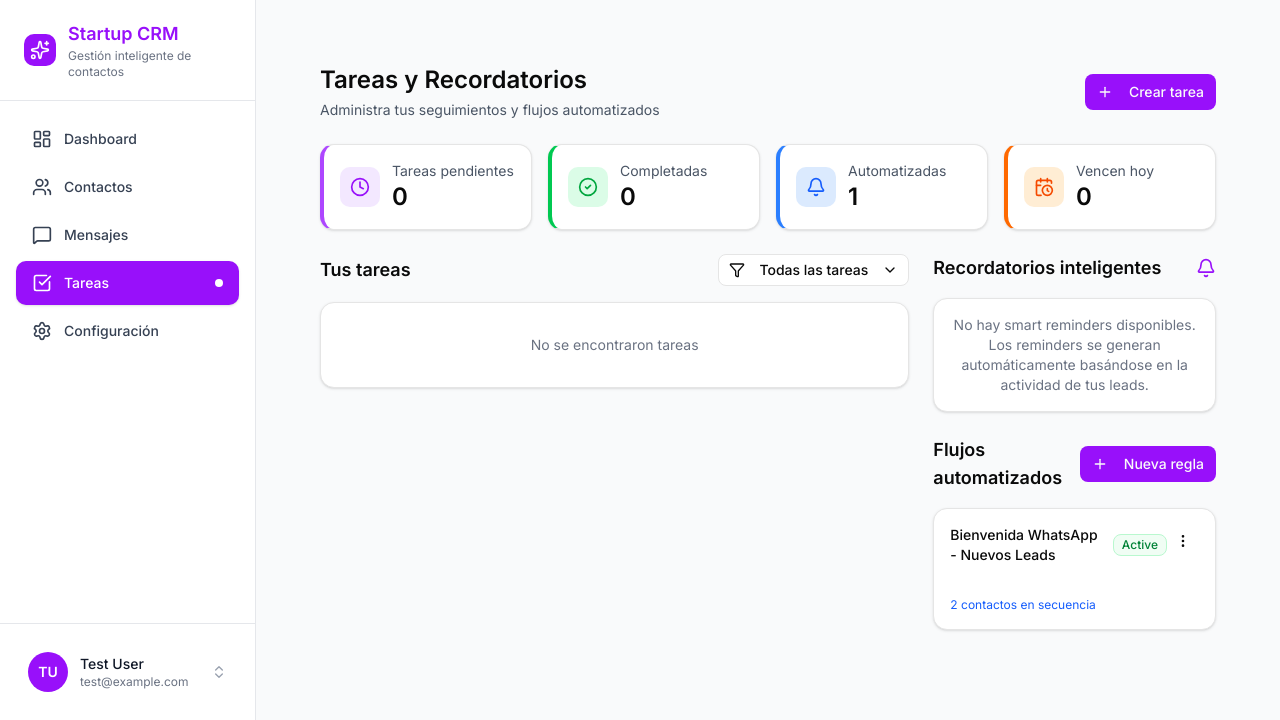
Flujo de Bienvenida WhatsApp › Gestión del flujo de bienvenida › debe permitir pausar el flujo de bienvenida
Check: the text with test id "workflow-card-1" reads "Active", box [1122,537,1158,552]
Click the button with test id "workflow-menu-1".
click(1183, 541)  # box [1167,525,1199,557]
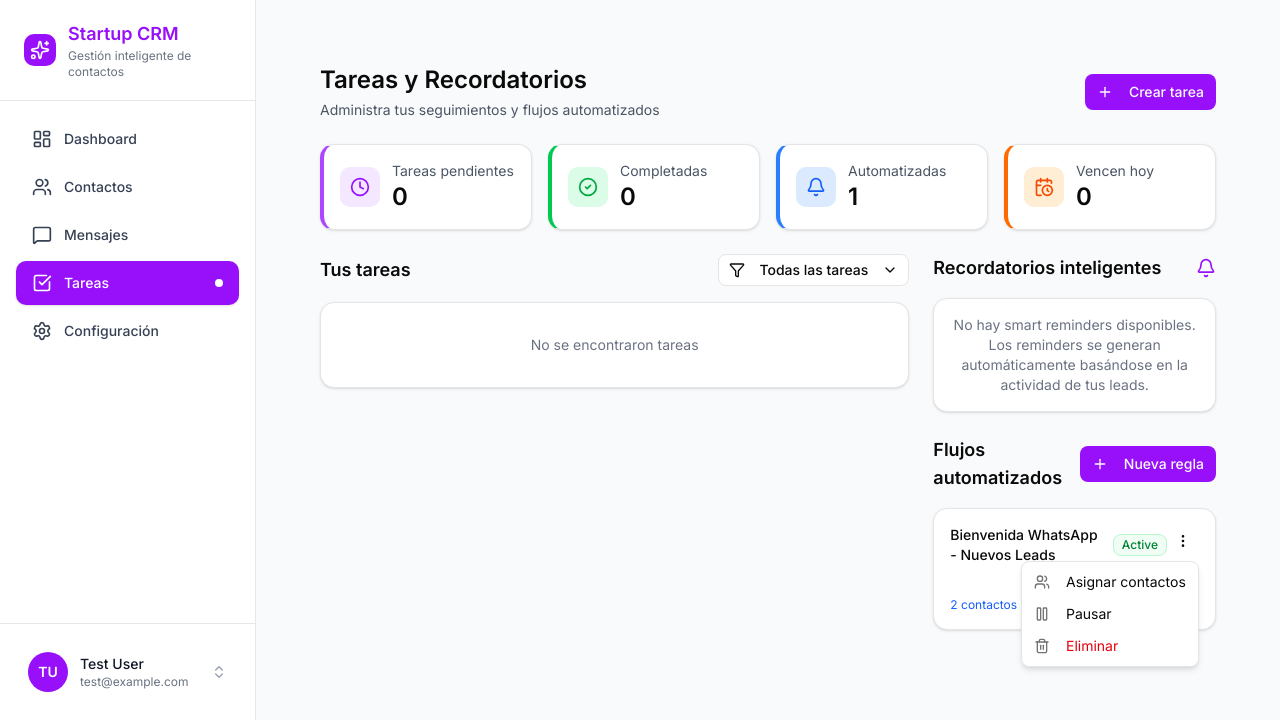
Click the menu item with test id "workflow-toggle-1".
click(1073, 614)  # box [1034,605,1112,622]
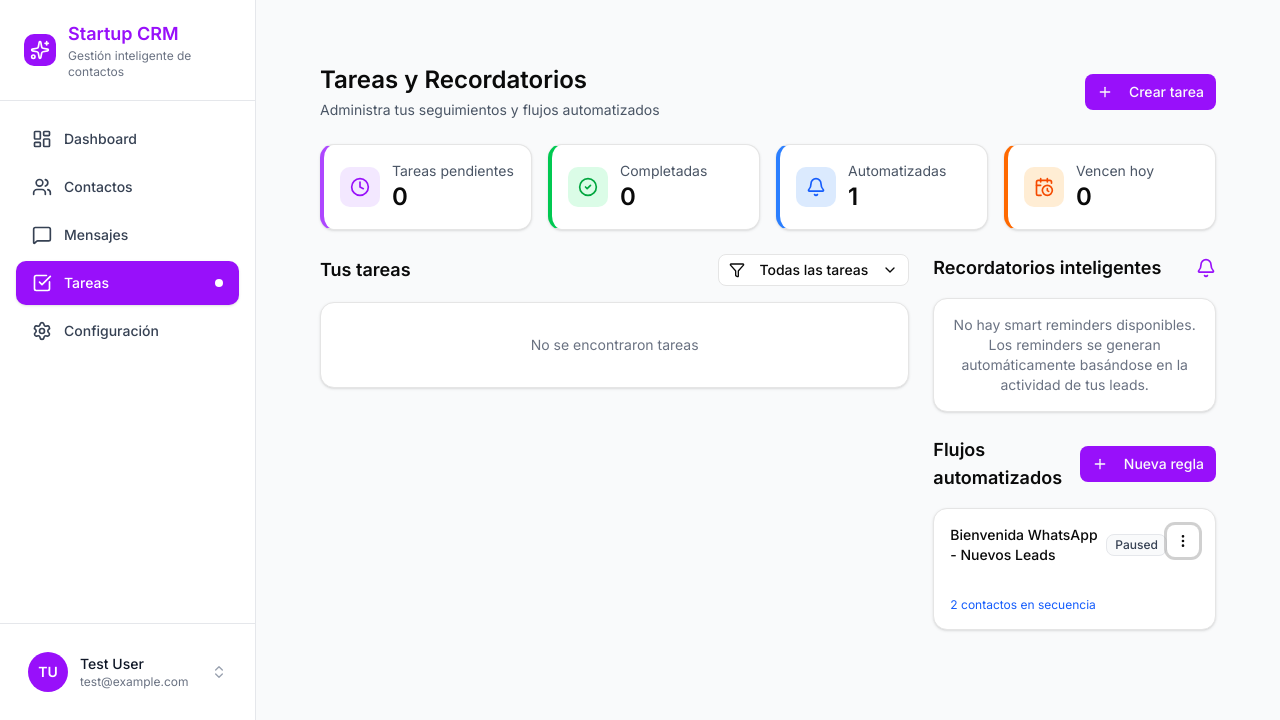
Check: the text with test id "workflow-card-1" reads "Paused", box [1115,537,1158,552]
